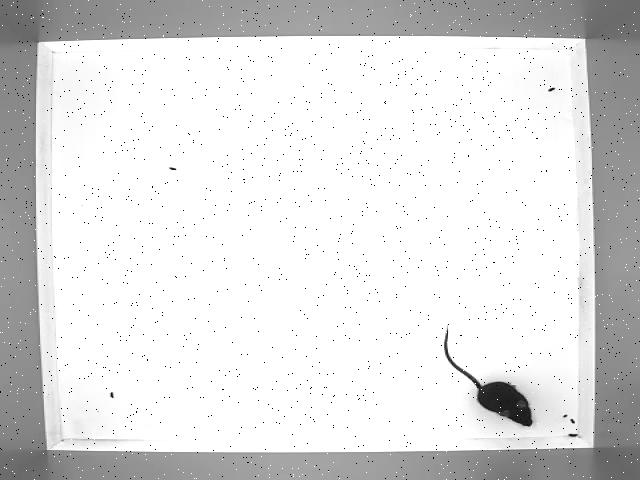Tikus: (434, 318, 544, 434)
